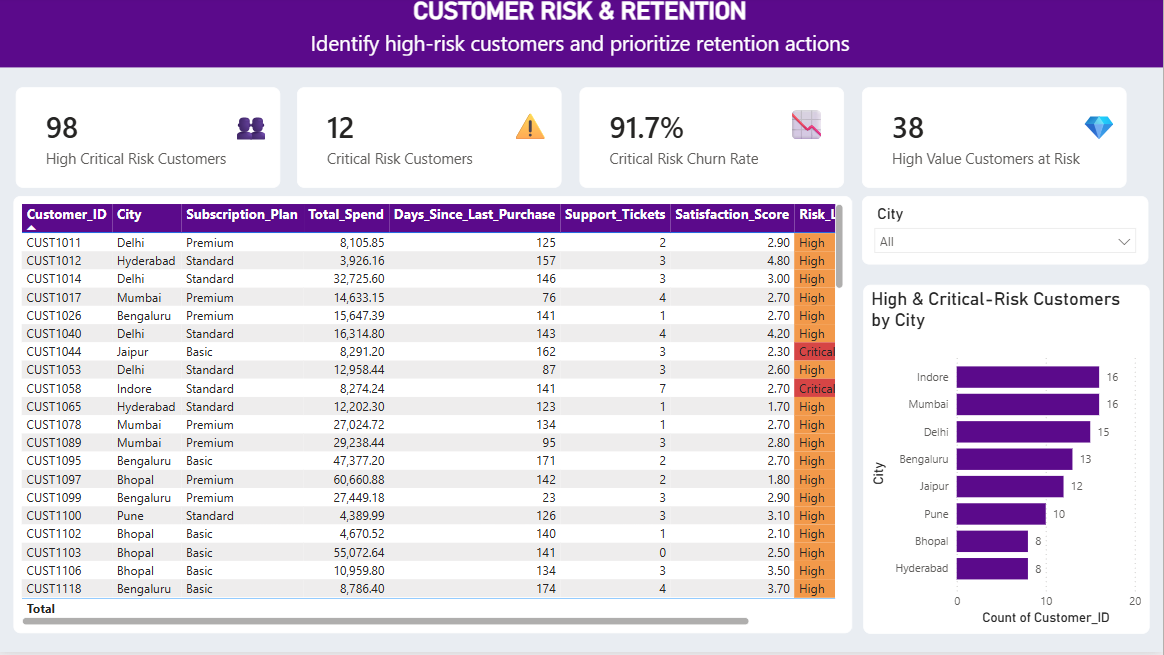

What the dashboard file says about the page in this screenshot:
{"tool":"powerbi","page":{"name":"Risk & Retention","canvas":[1280,720],"ordinal":1},"visuals":[{"type":"shape","title":"CUSTOMER RISK & RETENTION","box":[0,0,1280,78.4],"z":0},{"type":"cardVisual","fields":{"Data":["Customer_360_Final.High Critical Risk Customers"]},"box":[20,100,290,110],"z":1},{"type":"cardVisual","fields":{"Data":["Customer_360_Final.Critical Risk Customers"]},"box":[330,100,290,110],"z":2},{"type":"cardVisual","fields":{"Data":["Customer_360_Final.Critical Risk Churn Rate"]},"box":[640,100,290,110],"z":3},{"type":"cardVisual","fields":{"Data":["Customer_360_Final.High Value Customers at Risk"]},"box":[950,100,290,110],"z":4},{"type":"tableEx","fields":{"Values":["Customer_360_Final.Customer_ID","Customer_360_Final.City","Customer_360_Final.Subscription_Plan","Customer_360_Final.Total_Spend","Customer_360_Final.Days_Since_Last_Purchase","Customer_360_Final.Support_Tickets","Customer_360_Final.Satisfaction_Score","Customer_360_Final.Risk_Level","Customer_360_Final.Churn"]},"box":[17.8,219.6,920.8,480.3],"z":5},{"type":"slicer","fields":{"Values":["Customer_360_Final.City"]},"box":[949.6,219.6,314.2,75.5],"z":7},{"type":"clusteredBarChart","title":"High & Critical-Risk Customers by City","fields":{"Category":["Customer_360_Final.City"],"Y":["CountNonNull(Customer_360_Final.Customer_ID)"]},"box":[950.9,317,314.2,382.8],"z":8},{"type":"textbox","box":[252.5,113.9,57.6,57.6],"z":9},{"type":"textbox","box":[558.5,113.9,60.4,57.6],"z":10},{"type":"textbox","box":[861.8,113.9,52.1,70],"z":11},{"type":"textbox","box":[1182.9,113.9,56.3,57.6],"z":12}]}

Visuals, with their boxes in screenshot pixels (x1, y1, x2, y2), scaled from the page's 1280x720 canvas onto the 1164x655 screenshot:
"CUSTOMER RISK & RETENTION" shape: <region>0, 0, 1163, 71</region>
cardVisual - Customer_360_Final.High Critical Risk Customers: <region>18, 91, 282, 191</region>
cardVisual - Customer_360_Final.Critical Risk Customers: <region>300, 91, 564, 191</region>
cardVisual - Customer_360_Final.Critical Risk Churn Rate: <region>582, 91, 846, 191</region>
cardVisual - Customer_360_Final.High Value Customers at Risk: <region>864, 91, 1128, 191</region>
tableEx - Customer_360_Final.Customer_ID x Customer_360_Final.City: <region>16, 200, 854, 637</region>
slicer - Customer_360_Final.City: <region>864, 200, 1149, 268</region>
"High & Critical-Risk Customers by City" clusteredBarChart: <region>865, 288, 1150, 637</region>
textbox: <region>230, 104, 282, 156</region>
textbox: <region>508, 104, 563, 156</region>
textbox: <region>784, 104, 831, 167</region>
textbox: <region>1076, 104, 1127, 156</region>
